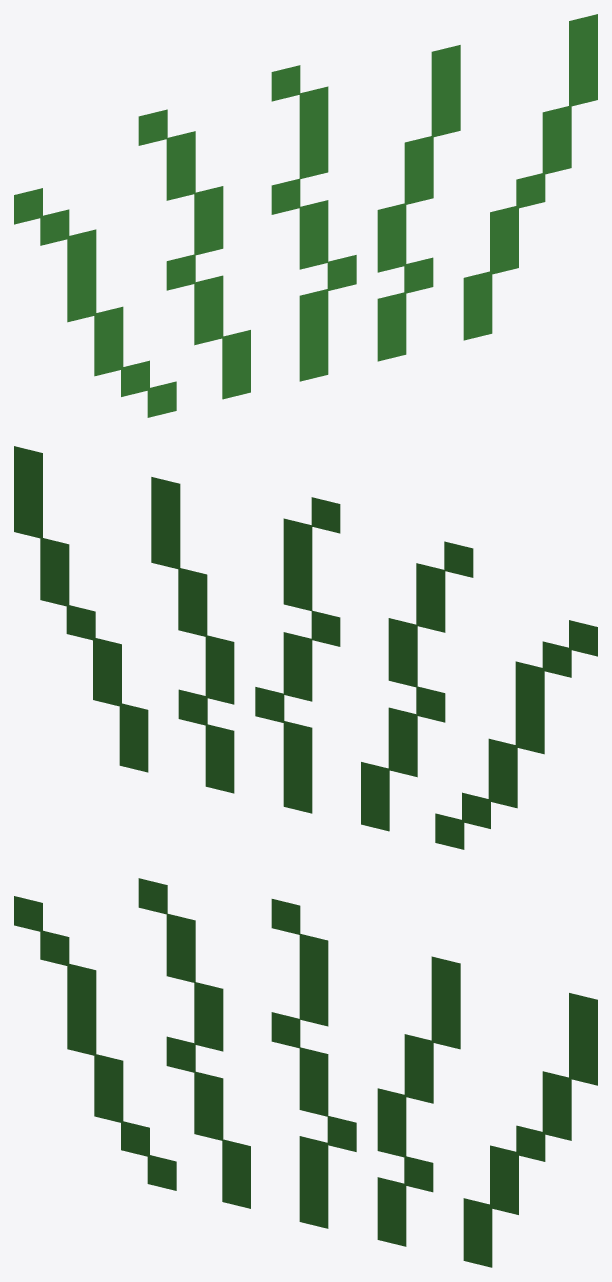
The model's file is Grass.fbx.
3 views of the same model, one above another, from view 1: azimuth 30°, elevation 25°; view 2: azimuth 150°, elevation 25°; view 3: azimuth 330°, elevation 25° (orthographic).
Visible parts, largest first — view 1: Grass; view 2: Grass; view 3: Grass.
Boxes of the visible parts, left/top/right/bottom form: Grass: left=14, top=14, right=597, bottom=417; Grass: left=14, top=446, right=597, bottom=849; Grass: left=14, top=878, right=597, bottom=1267.
Size of the model in its own units: 0.0133 by 0.0069 by 0.
